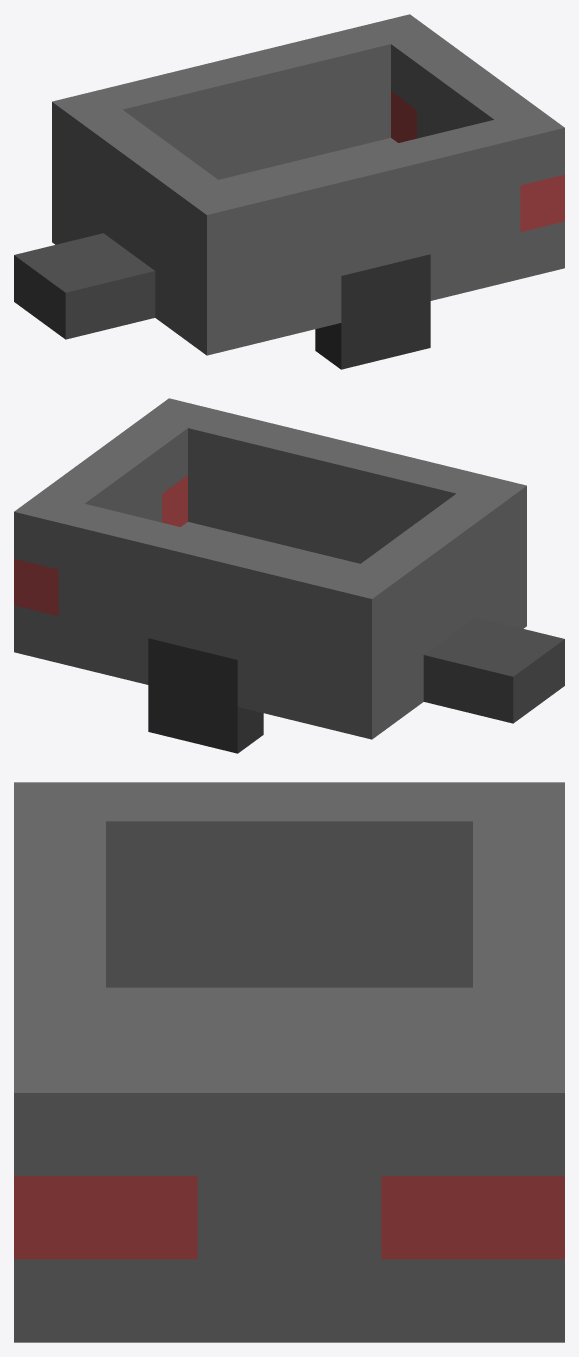
File: car-trailer-v1-grey.gltf
3 renders of one model, top to bottom at view 1: azimuth 30°, elevation 25°; view 2: azimuth 150°, elevation 25°; view 3: azimuth 270°, elevation 25°, orthographic. The views are drawn at different scales.
Parts seen in each view (by area): view 1: model, wheels; view 2: model, wheels; view 3: model.
Part boxes in pixels (left/top/right/bottom): model: left=14, top=14, right=564, bottom=355; wheels: left=315, top=254, right=430, bottom=369; model: left=14, top=398, right=564, bottom=739; wheels: left=148, top=638, right=263, bottom=753; model: left=14, top=782, right=564, bottom=1342.
Size of the model in its own units: 1 by 0.4 by 0.6.
2 materials, 2 textured.
